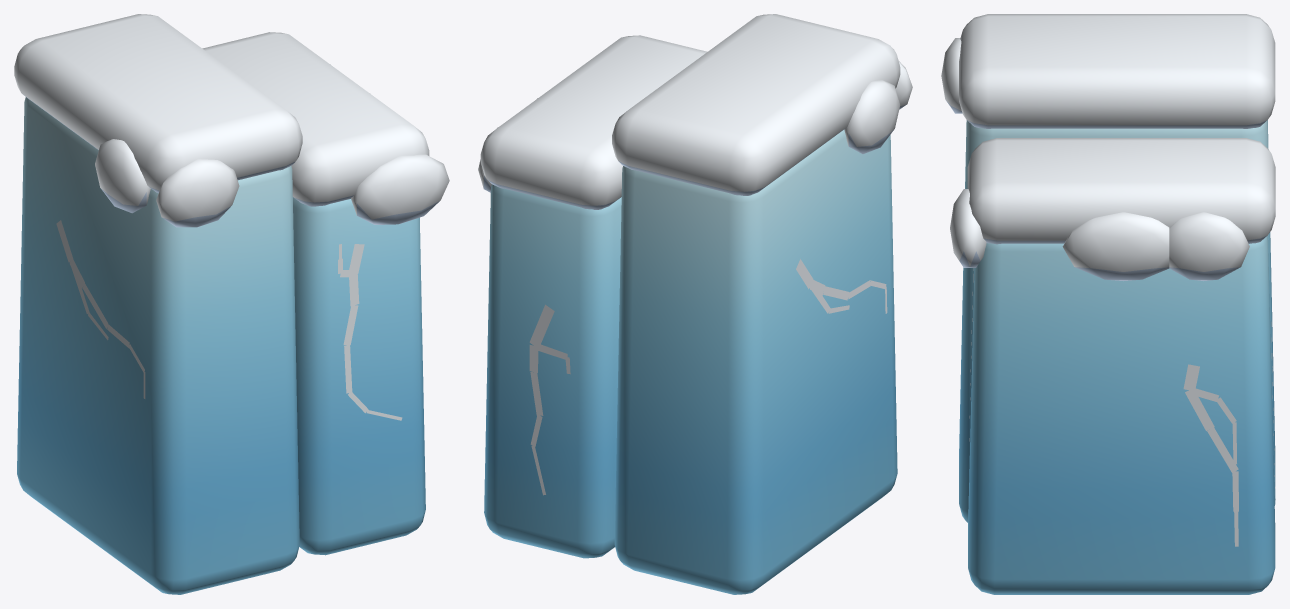
File: GlacierBlockA.fbx
The picture shows the model from 3 angles, left to right: view 1: azimuth 30°, elevation 25°; view 2: azimuth 150°, elevation 25°; view 3: azimuth 270°, elevation 25°; orthographic projection.
Visible parts, largest first — view 1: GlacierBlockA; view 2: GlacierBlockA; view 3: GlacierBlockA.
Boxes of the visible parts, bbox=[...] form: GlacierBlockA: bbox=[14, 14, 449, 594]; GlacierBlockA: bbox=[478, 14, 912, 594]; GlacierBlockA: bbox=[941, 14, 1275, 594].
Bounding box in the file's own units: 1.64 × 2.28 × 1.5.
1 material, 1 textured.
